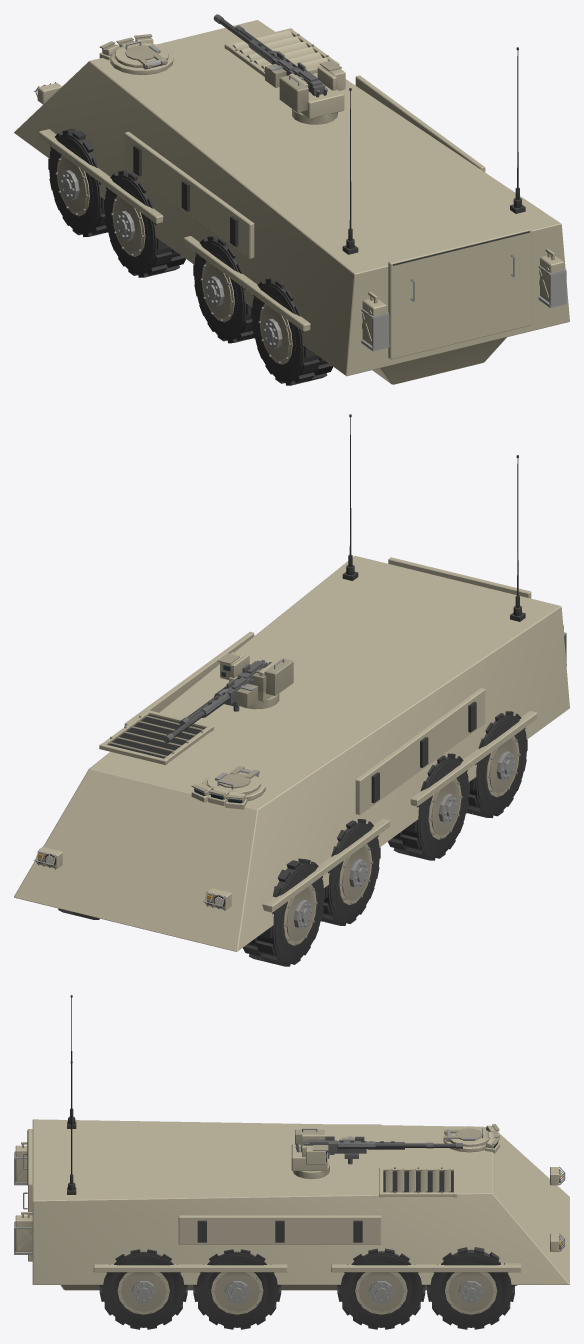
Rendered from rus_apc_boom.glb.
3 renders of one model, top to bottom at view 1: azimuth 30°, elevation 25°; view 2: azimuth 150°, elevation 25°; view 3: azimuth 270°, elevation 25°, orthographic. The views are drawn at different scales.
Parts seen in each view (by area): view 1: body, door, wheel_2, wheel_6, wheel_0, wheel_4, turret, barrel; view 2: body, wheel_0, wheel_4, wheel_6, wheel_2, turret, barrel, door; view 3: body, wheel_1, wheel_3, wheel_5, wheel_7, turret, barrel, door.
Boxes of the visible parts, left/top/right/bottom form: body: left=14, top=20, right=569, bottom=384; door: left=388, top=227, right=531, bottom=359; wheel_2: left=104, top=170, right=185, bottom=277; wheel_6: left=251, top=278, right=332, bottom=385; wheel_0: left=48, top=129, right=107, bottom=237; wheel_4: left=193, top=236, right=254, bottom=343; turret: left=235, top=25, right=345, bottom=124; barrel: left=213, top=14, right=294, bottom=87; body: left=14, top=414, right=569, bottom=951; wheel_0: left=243, top=858, right=324, bottom=966; wheel_4: left=388, top=753, right=469, bottom=860; wheel_6: left=467, top=711, right=527, bottom=818; wheel_2: left=320, top=819, right=380, bottom=925; turret: left=179, top=652, right=293, bottom=725; barrel: left=163, top=677, right=257, bottom=742; door: left=388, top=557, right=531, bottom=598; body: left=14, top=995, right=569, bottom=1290; wheel_1: left=427, top=1247, right=514, bottom=1329; wheel_3: left=337, top=1248, right=425, bottom=1329; wheel_5: left=193, top=1249, right=281, bottom=1329; wheel_7: left=99, top=1249, right=187, bottom=1329; turret: left=291, top=1128, right=433, bottom=1179; barrel: left=329, top=1136, right=462, bottom=1164; door: left=23, top=1129, right=32, bottom=1261.
Size of the model in its own units: 2.88 by 3.65 by 7.13.
